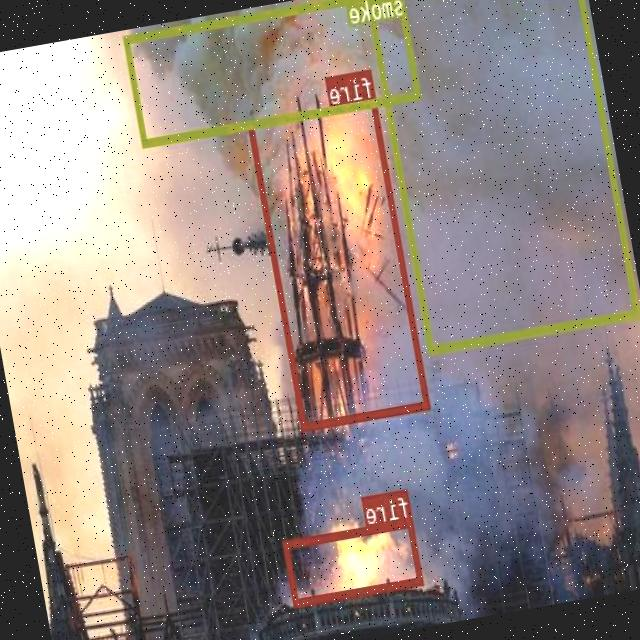fire: (248, 97, 431, 430), (283, 516, 425, 606)
smoke: (366, 0, 640, 353), (123, 0, 421, 145)
